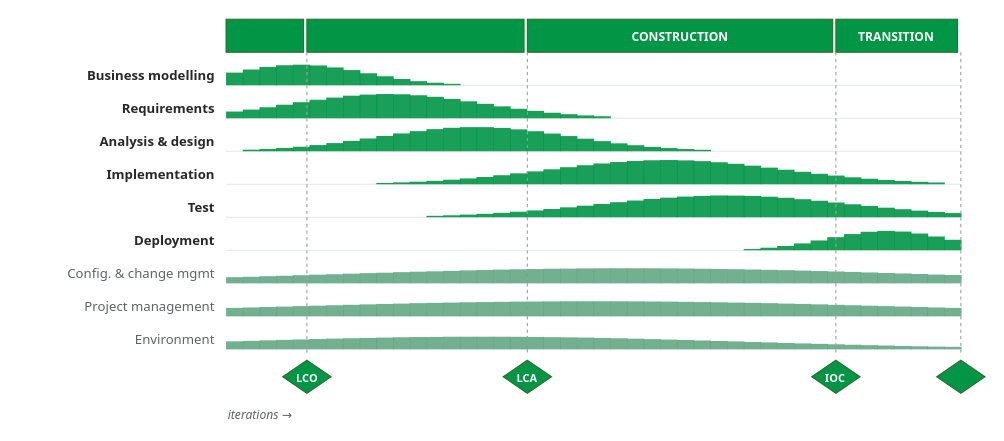
This 1004x441 diagram has some shape labels left out. The shapes that lost their labels are listed below. From the top down, each one's box as (x1, y1, x2, y2) in pixels, then its label:
(225, 18, 304, 52): INCEPTION
(306, 18, 524, 52): ELABORATION
(936, 359, 985, 393): PR
